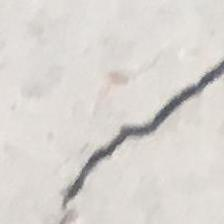Crack: (42, 52, 224, 224)
